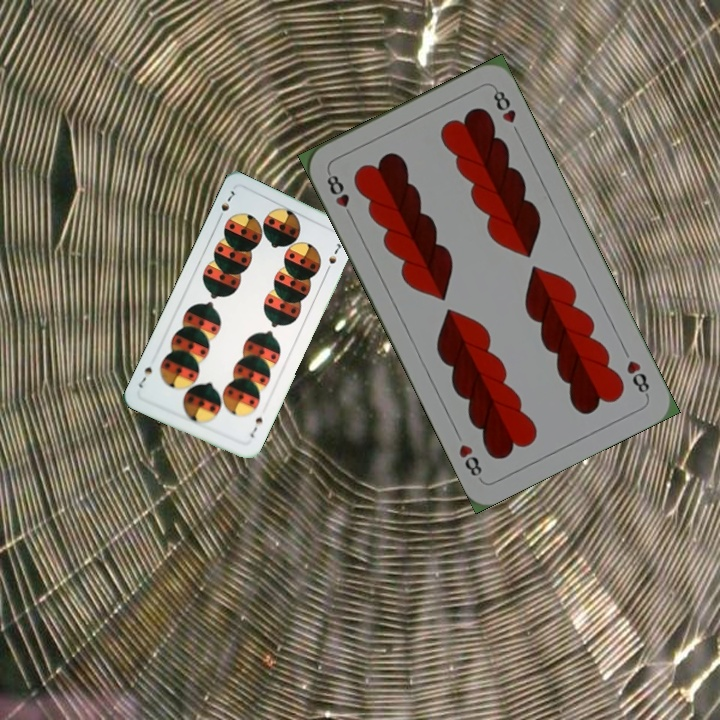H8: (322, 167, 356, 222), (622, 356, 652, 399)
S7: (214, 186, 237, 223), (246, 413, 265, 440)
